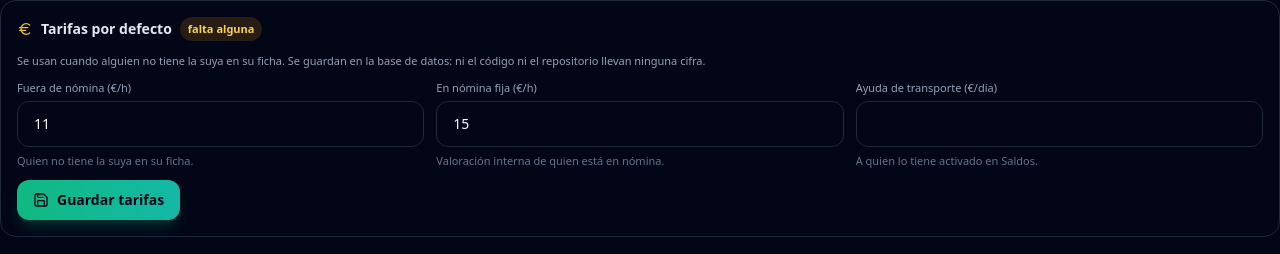
Scenario: TarifasPorDefecto › enseña las guardadas y guarda solo los números válidos (lo vacío queda sin dato)
Check: the number field labelled "Fuera de nómina (€/h)" holds "11", box 17,101 -> 424,147
Type "8.5" into the number field labelled "Ayuda de transporte (€/día)". click: (1059, 124)
box: 856,101 -> 1263,147
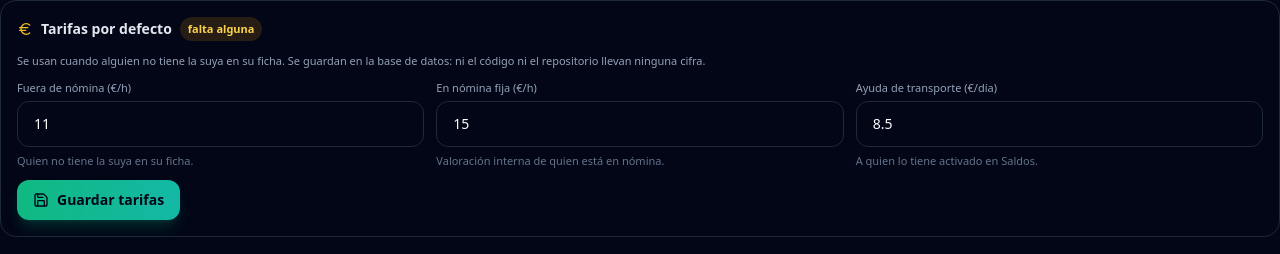
Click the button "Guardar tarifas". click: click(99, 200)
box: 17,180 -> 180,220
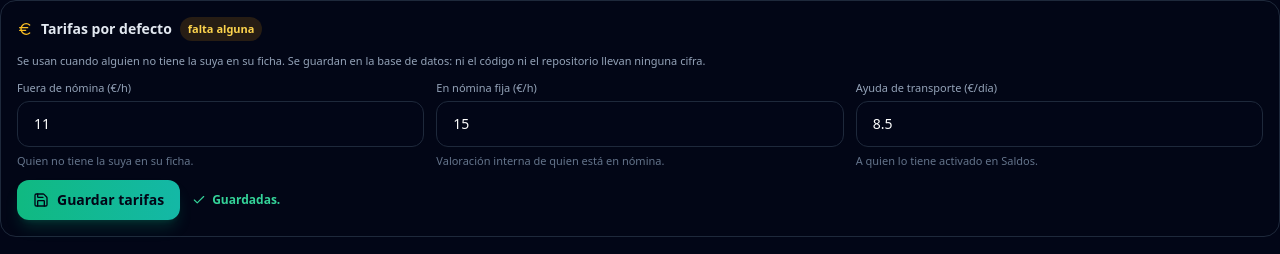
Check: the text "Guardadas." is shown, box 192,192 -> 280,208
